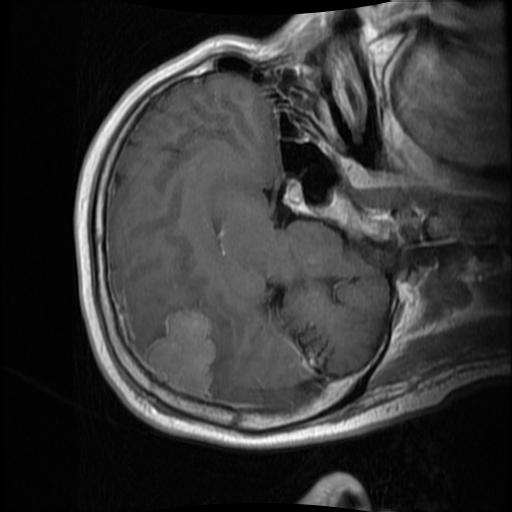meningioma: (145, 309, 215, 398)
